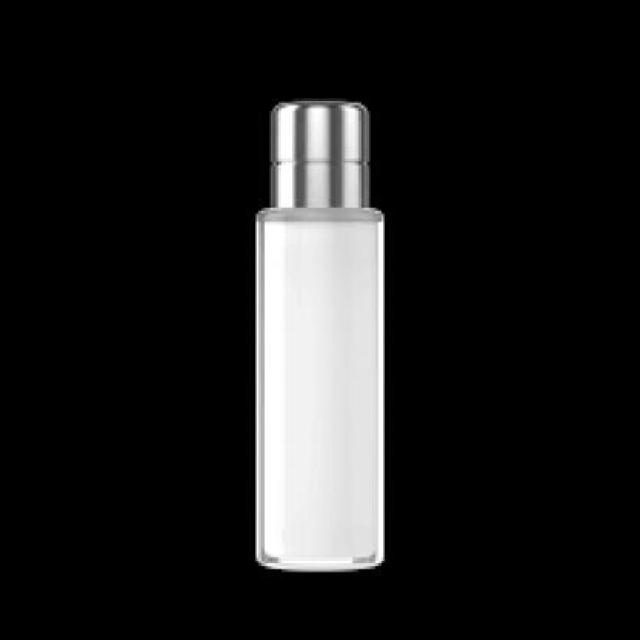kaca: (248, 202, 382, 569)
